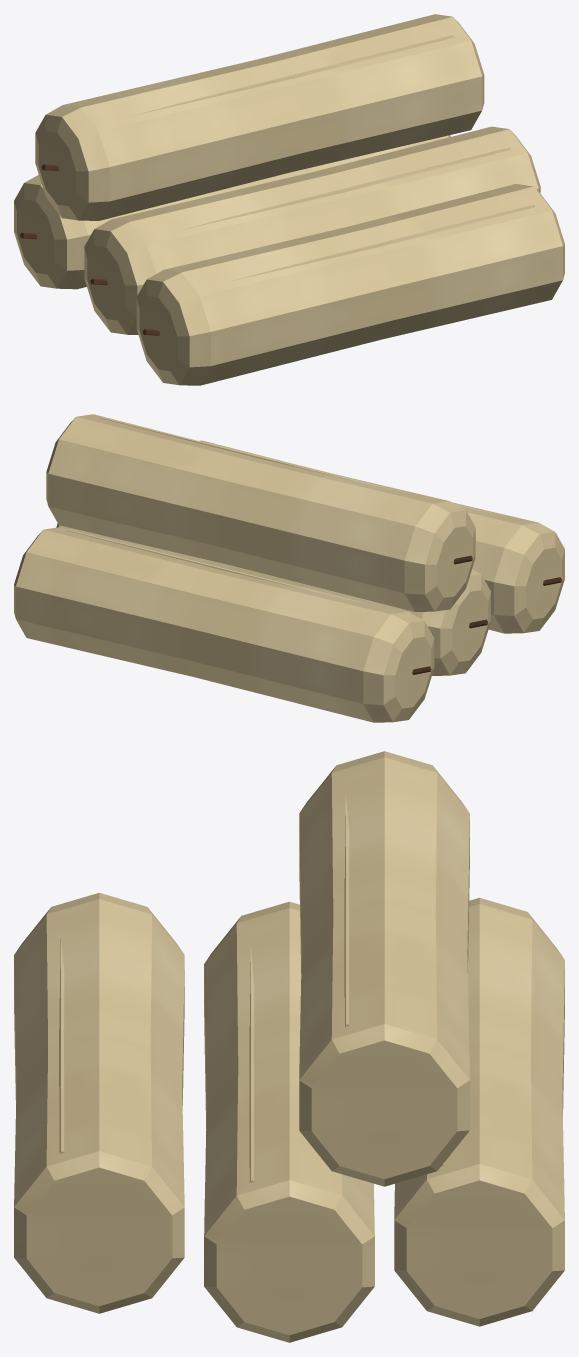
File: CandlePile_Unlit.obj
The picture shows the model from 3 angles, top to bottom: view 1: azimuth 30°, elevation 25°; view 2: azimuth 150°, elevation 25°; view 3: azimuth 270°, elevation 25°; orthographic projection. The views are drawn at different scales.
Parts seen in each view (by area): view 1: ReserveCandle_4, ReserveCandle_3, ReserveCandle_2, ReserveCandle_1; view 2: ReserveCandle_4, ReserveCandle_1, ReserveCandle_3, ReserveCandle_2; view 3: ReserveCandle_4, ReserveCandle_3, ReserveCandle_2, ReserveCandle_1.
Part boxes in pixels (left/top/right/bottom): ReserveCandle_4: left=35, top=14, right=484, bottom=220; ReserveCandle_3: left=136, top=184, right=564, bottom=385; ReserveCandle_2: left=84, top=126, right=540, bottom=334; ReserveCandle_1: left=14, top=135, right=450, bottom=289; ReserveCandle_4: left=46, top=414, right=475, bottom=611; ReserveCandle_1: left=14, top=527, right=434, bottom=722; ReserveCandle_3: left=199, top=440, right=564, bottom=633; ReserveCandle_2: left=56, top=523, right=490, bottom=675; ReserveCandle_4: left=299, top=751, right=469, bottom=1186; ReserveCandle_3: left=14, top=892, right=184, bottom=1313; ReserveCandle_2: left=204, top=901, right=374, bottom=1342; ReserveCandle_1: left=394, top=897, right=564, bottom=1326.
Size of the model in its own units: 0.2841 by 0.126 by 0.2087.
2 materials, 2 textured.
